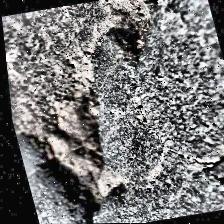pothole: (0, 0, 212, 224)
